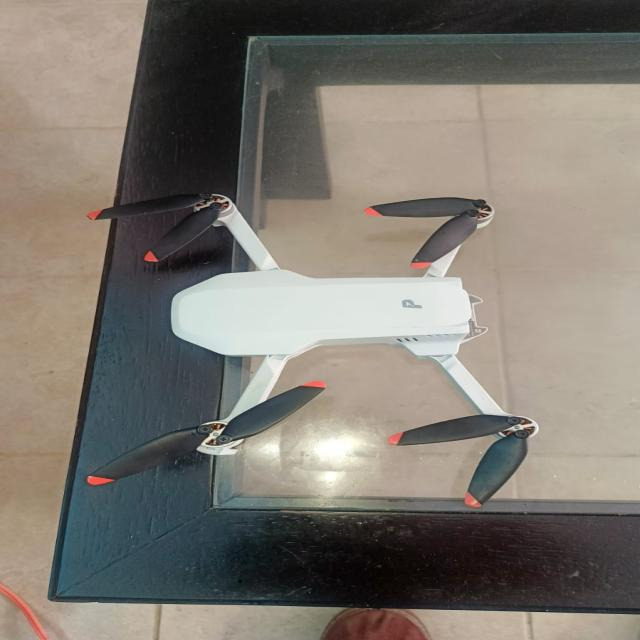dron: (72, 170, 544, 523)
